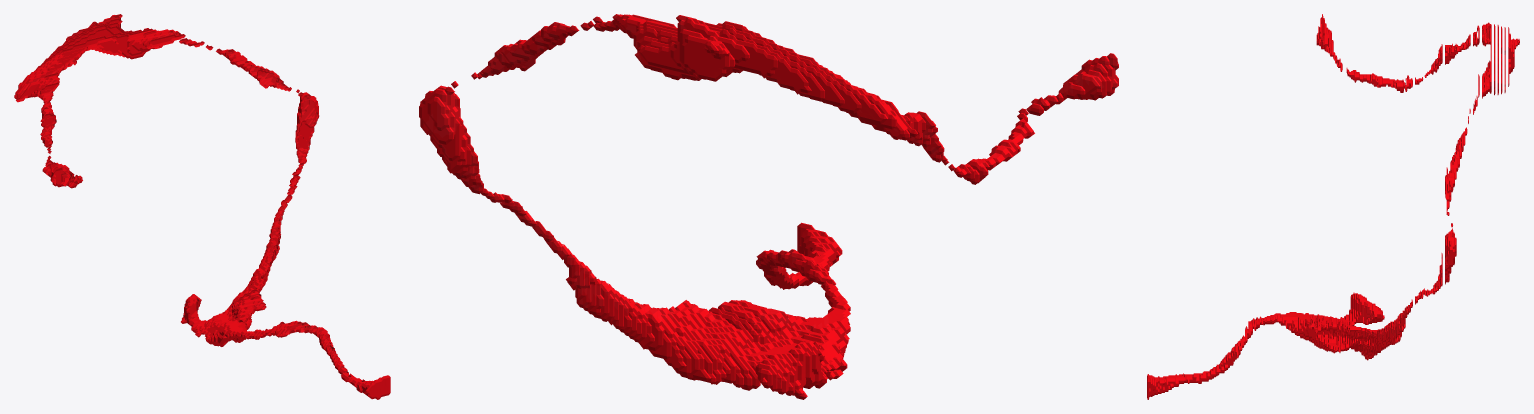
Rendered from SVV_SMDDR.gltf.
3 renders of one model, left to right at view 1: azimuth 30°, elevation 25°; view 2: azimuth 150°, elevation 25°; view 3: azimuth 270°, elevation 25°, orthographic. The views are drawn at different scales.
Parts seen in each view (by area): view 1: SMDDR; view 2: SMDDR; view 3: SMDDR.
Part boxes in pixels (left/top/right/bottom): SMDDR: left=14, top=14, right=390, bottom=399; SMDDR: left=419, top=14, right=1118, bottom=399; SMDDR: left=1147, top=14, right=1519, bottom=399.
Size of the model in its own units: 88621 by 73771 by 81564.
